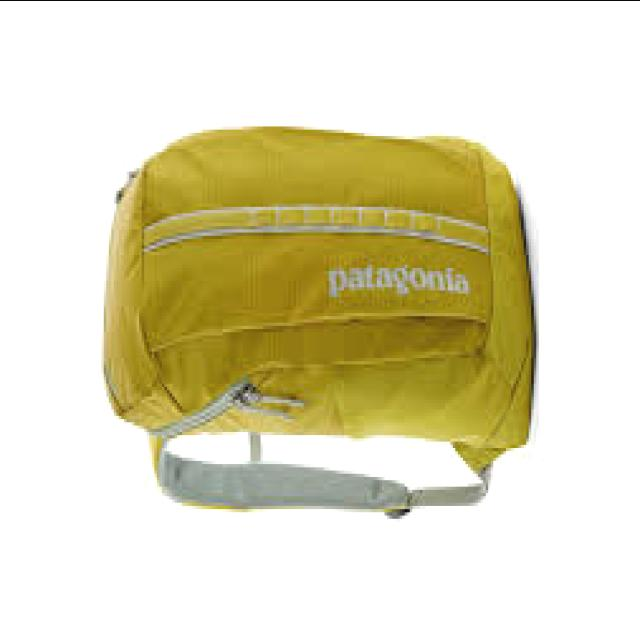backpack: (100, 126, 535, 522)
